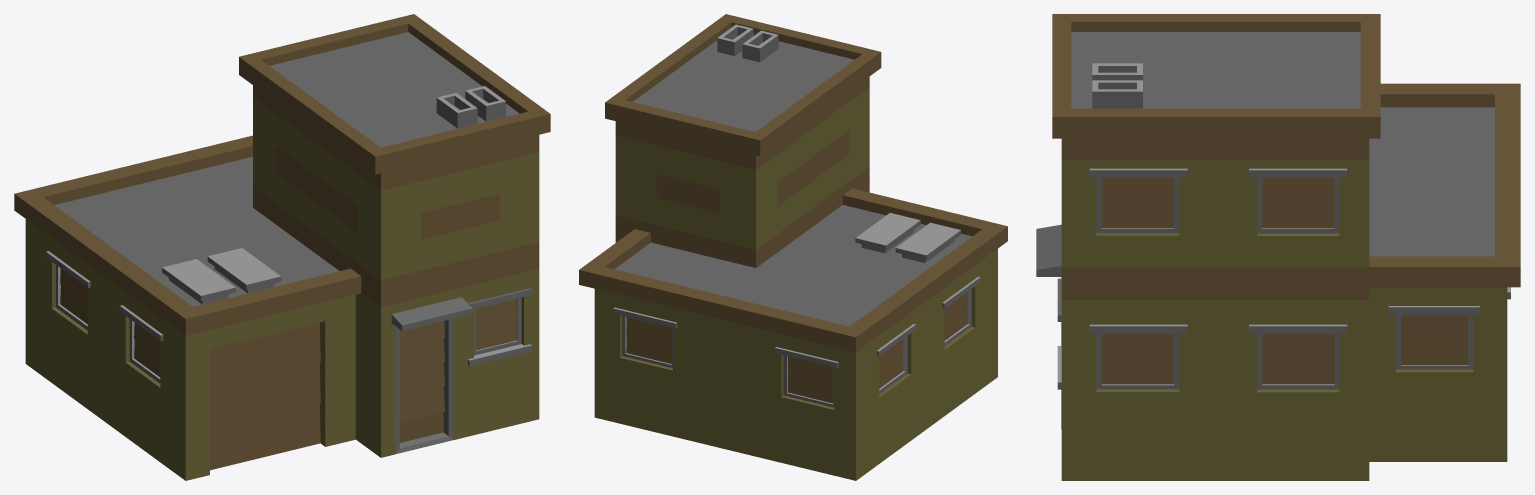
File: house_purpose_007.fbx
3 renders of one model, left to right at view 1: azimuth 30°, elevation 25°; view 2: azimuth 150°, elevation 25°; view 3: azimuth 270°, elevation 25°, orthographic. The views are drawn at different scales.
Parts seen in each view (by area): view 1: house_purpose_007; view 2: house_purpose_007; view 3: house_purpose_007.
Boxes of the visible parts, x1=… form: house_purpose_007: x1=14, y1=14, x2=550, y2=480; house_purpose_007: x1=579, y1=14, x2=1007, y2=480; house_purpose_007: x1=1036, y1=14, x2=1520, y2=480.
Bounding box in the file's own units: 741 × 652 × 757.
